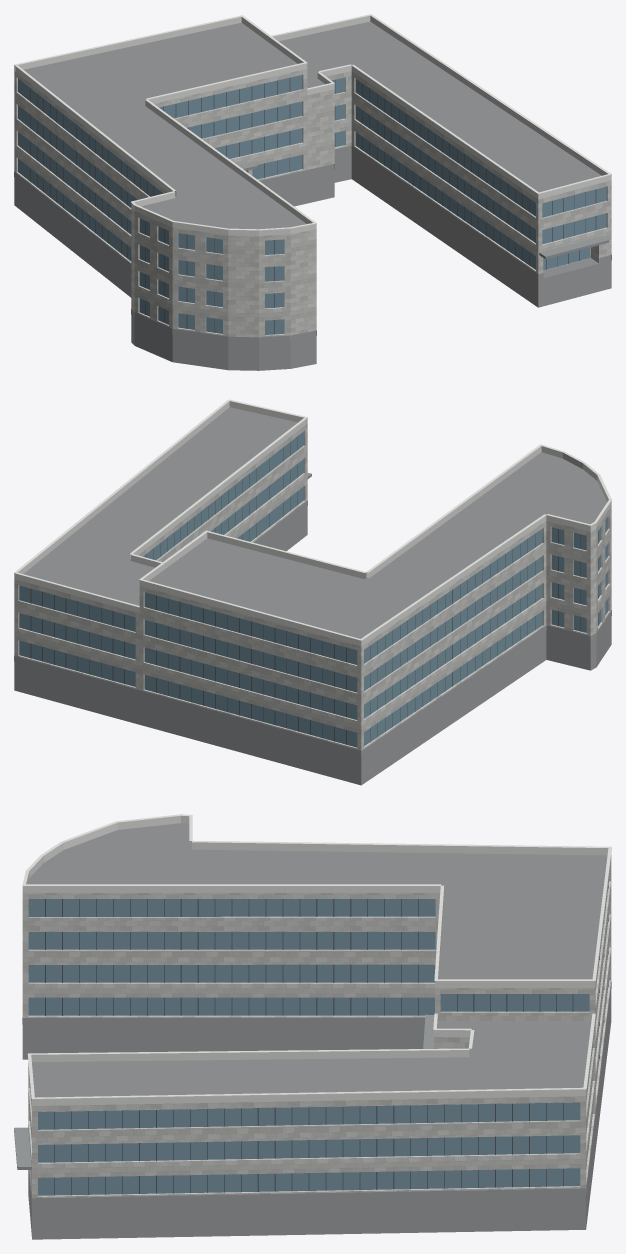
The picture shows the model from 3 angles, top to bottom: view 1: azimuth 30°, elevation 25°; view 2: azimuth 150°, elevation 25°; view 3: azimuth 270°, elevation 25°; orthographic projection. The views are drawn at different scales.
Parts seen in each view (by area): view 1: studentUnion__wall, studentUnion__roof, studentUnion__glass, studentUnion__base, studentUnion__parapet, studentUnion__trim, studentUnion__frame, studentUnion__canopy; view 2: studentUnion__roof, studentUnion__glass, studentUnion__wall, studentUnion__base, studentUnion__parapet, studentUnion__trim, studentUnion__frame; view 3: studentUnion__glass, studentUnion__roof, studentUnion__wall, studentUnion__base, studentUnion__parapet, studentUnion__trim, studentUnion__frame, studentUnion__canopy.
Part boxes in pixels (x1,y1,x2,y2): studentUnion__wall: (14, 69, 611, 340); studentUnion__roof: (24, 21, 601, 277); studentUnion__glass: (18, 75, 606, 334); studentUnion__base: (14, 145, 611, 370); studentUnion__parapet: (14, 15, 611, 236); studentUnion__trim: (14, 14, 611, 230); studentUnion__frame: (30, 78, 596, 334); studentUnion__canopy: (237, 161, 609, 259); studentUnion__roof: (23, 407, 607, 638); studentUnion__glass: (19, 432, 608, 747); studentUnion__wall: (14, 423, 611, 755); studentUnion__base: (14, 500, 611, 785); studentUnion__parapet: (14, 401, 611, 646); studentUnion__trim: (14, 399, 611, 641); studentUnion__frame: (30, 437, 598, 744); studentUnion__glass: (28, 882, 608, 1195); studentUnion__roof: (28, 823, 607, 1190); studentUnion__wall: (22, 857, 611, 1201); studentUnion__base: (22, 982, 611, 1239); studentUnion__parapet: (22, 815, 611, 1105); studentUnion__trim: (22, 814, 611, 1099); studentUnion__frame: (45, 884, 608, 1195); studentUnion__canopy: (14, 1014, 434, 1169).
Bounding box in the file's own units: 62.27 × 20.05 × 62.51.
Materials: 9 (1 with a texture image).
